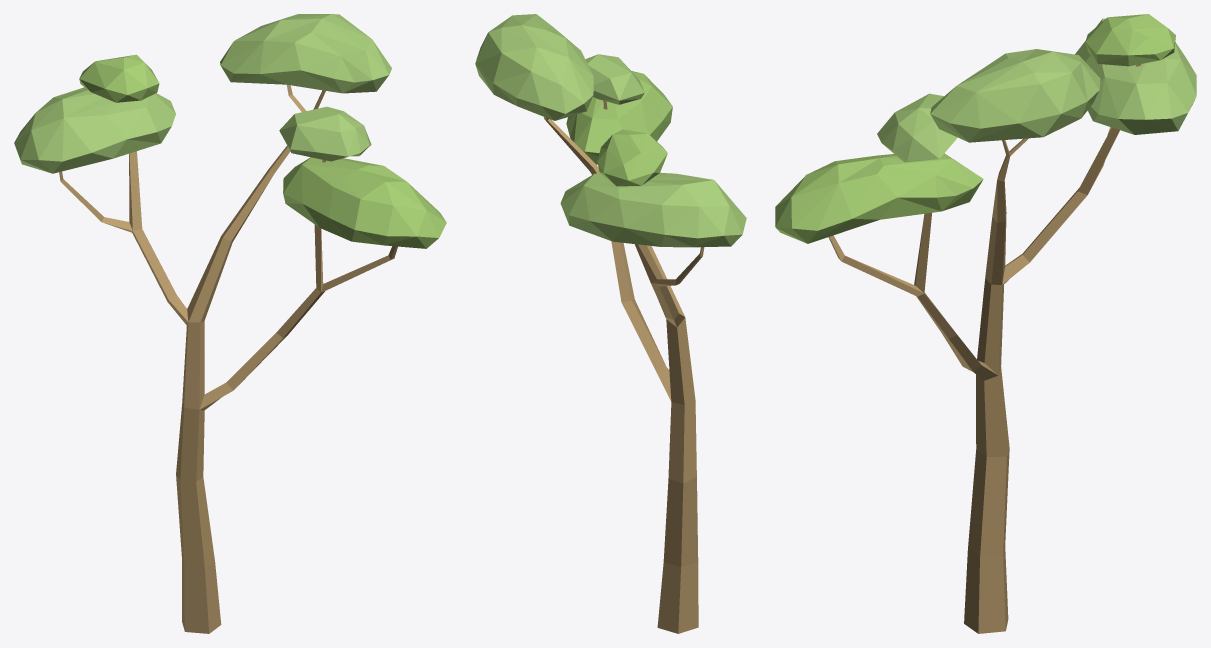
Rendered from Acacia_Tree_l_05.fbx.
3 renders of one model, left to right at view 1: azimuth 30°, elevation 25°; view 2: azimuth 150°, elevation 25°; view 3: azimuth 270°, elevation 25°, orthographic. The views are drawn at different scales.
Parts seen in each view (by area): view 1: Acacia_Tree_l_05; view 2: Acacia_Tree_l_05; view 3: Acacia_Tree_l_05.
Boxes of the visible parts, x1,y1,x2,y2 form: Acacia_Tree_l_05: (14,14,446,633); Acacia_Tree_l_05: (475,14,746,633); Acacia_Tree_l_05: (775,14,1196,633).
Size of the model in its own units: 606 by 1079 by 645.
